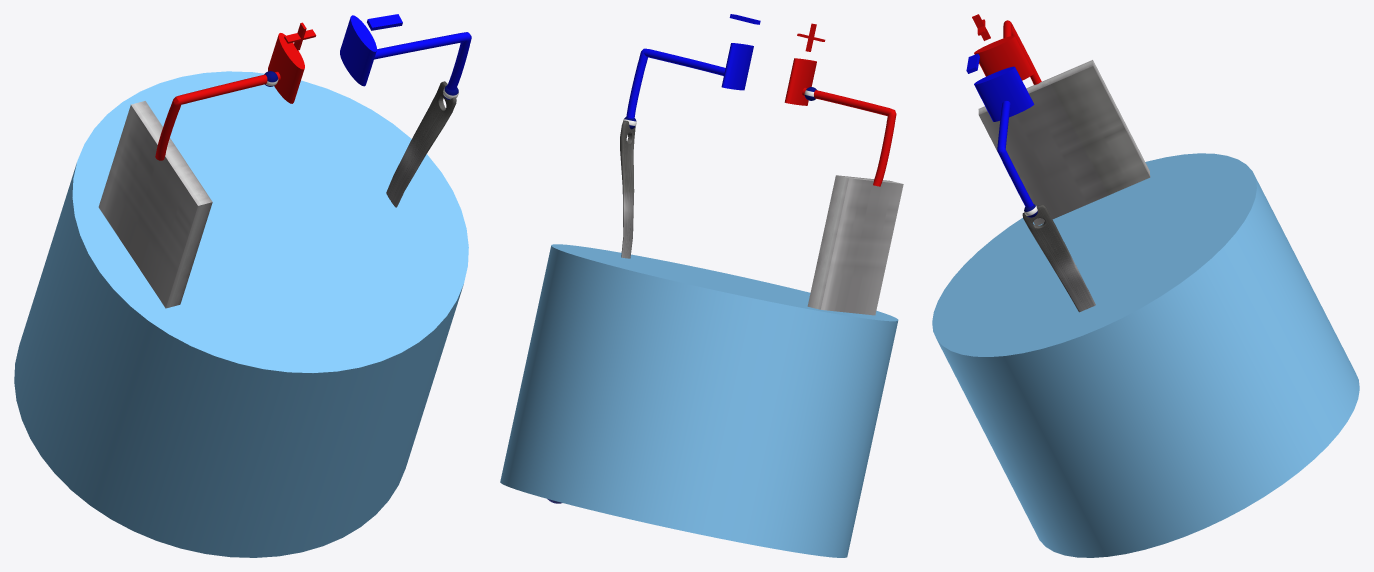
The picture shows the model from 3 angles, left to right: view 1: azimuth 30°, elevation 25°; view 2: azimuth 150°, elevation 25°; view 3: azimuth 270°, elevation 25°; orthographic projection. The views are drawn at different scales.
Visible parts, largest first — view 1: electroplating:water.001, electroplating:pCube1, electroplating:spoo:pCube1, electroplating:pCylinder4, electroplating:polySurface2, electroplating:pCylinder3, electroplating:polySurface3; view 2: electroplating:water.001, electroplating:pCube1, electroplating:spoo:pCube1, electroplating:polySurface2, electroplating:polySurface3, electroplating:pCylinder4, electroplating:pCylinder3; view 3: electroplating:water.001, electroplating:pCube1, electroplating:spoo:pCube1, electroplating:pCylinder4, electroplating:pCylinder3, electroplating:polySurface3.
Boxes of the visible parts, bbox=[...] form: electroplating:water.001: bbox=[14, 71, 468, 557]; electroplating:pCube1: bbox=[98, 101, 212, 308]; electroplating:spoo:pCube1: bbox=[386, 81, 456, 207]; electroplating:pCylinder4: bbox=[340, 15, 376, 86]; electroplating:polySurface2: bbox=[155, 71, 280, 160]; electroplating:pCylinder3: bbox=[268, 33, 304, 103]; electroplating:polySurface3: bbox=[374, 32, 471, 90]; electroplating:water.001: bbox=[500, 244, 898, 557]; electroplating:pCube1: bbox=[807, 175, 903, 315]; electroplating:spoo:pCube1: bbox=[620, 121, 635, 258]; electroplating:polySurface2: bbox=[802, 87, 896, 186]; electroplating:polySurface3: bbox=[626, 48, 725, 118]; electroplating:pCylinder4: bbox=[721, 43, 753, 90]; electroplating:pCylinder3: bbox=[784, 58, 816, 105]; electroplating:water.001: bbox=[932, 153, 1359, 557]; electroplating:pCube1: bbox=[978, 60, 1150, 225]; electroplating:spoo:pCube1: bbox=[1022, 204, 1095, 312]; electroplating:pCylinder4: bbox=[974, 66, 1034, 121]; electroplating:pCylinder3: bbox=[974, 35, 1033, 80]; electroplating:polySurface3: bbox=[997, 101, 1033, 207].
Size of what is drawn, in the model's own units: 0.2366 by 0.3613 by 0.2829.
Materials: 7 (6 with a texture image).
